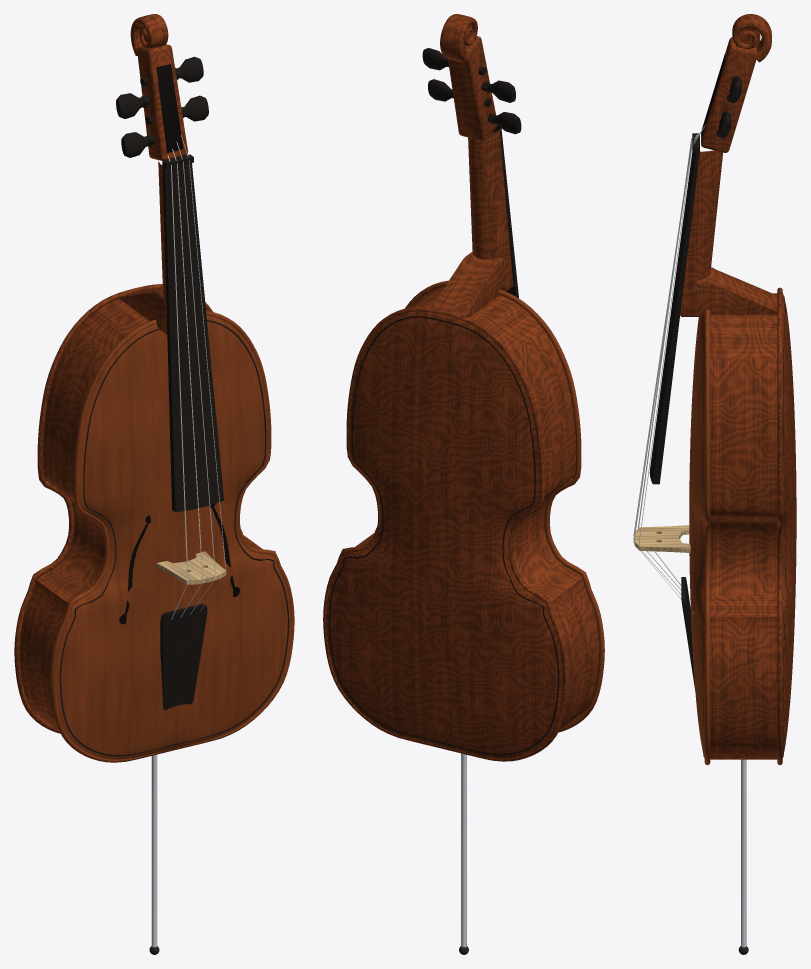
File: cello.glb
3 views of the same model, side by side, from view 1: azimuth 30°, elevation 25°; view 2: azimuth 150°, elevation 25°; view 3: azimuth 270°, elevation 25° (orthographic).
Parts seen in each view (by area): view 1: Cello; view 2: Cello; view 3: Cello.
Part boxes in pixels (x1,y1,x2,y2): Cello: [14, 14, 294, 954]; Cello: [323, 14, 604, 954]; Cello: [633, 14, 796, 954].
Bounding box in the file's own units: 0.4464 × 1.64 × 0.2585.
9 materials, 4 textured.
